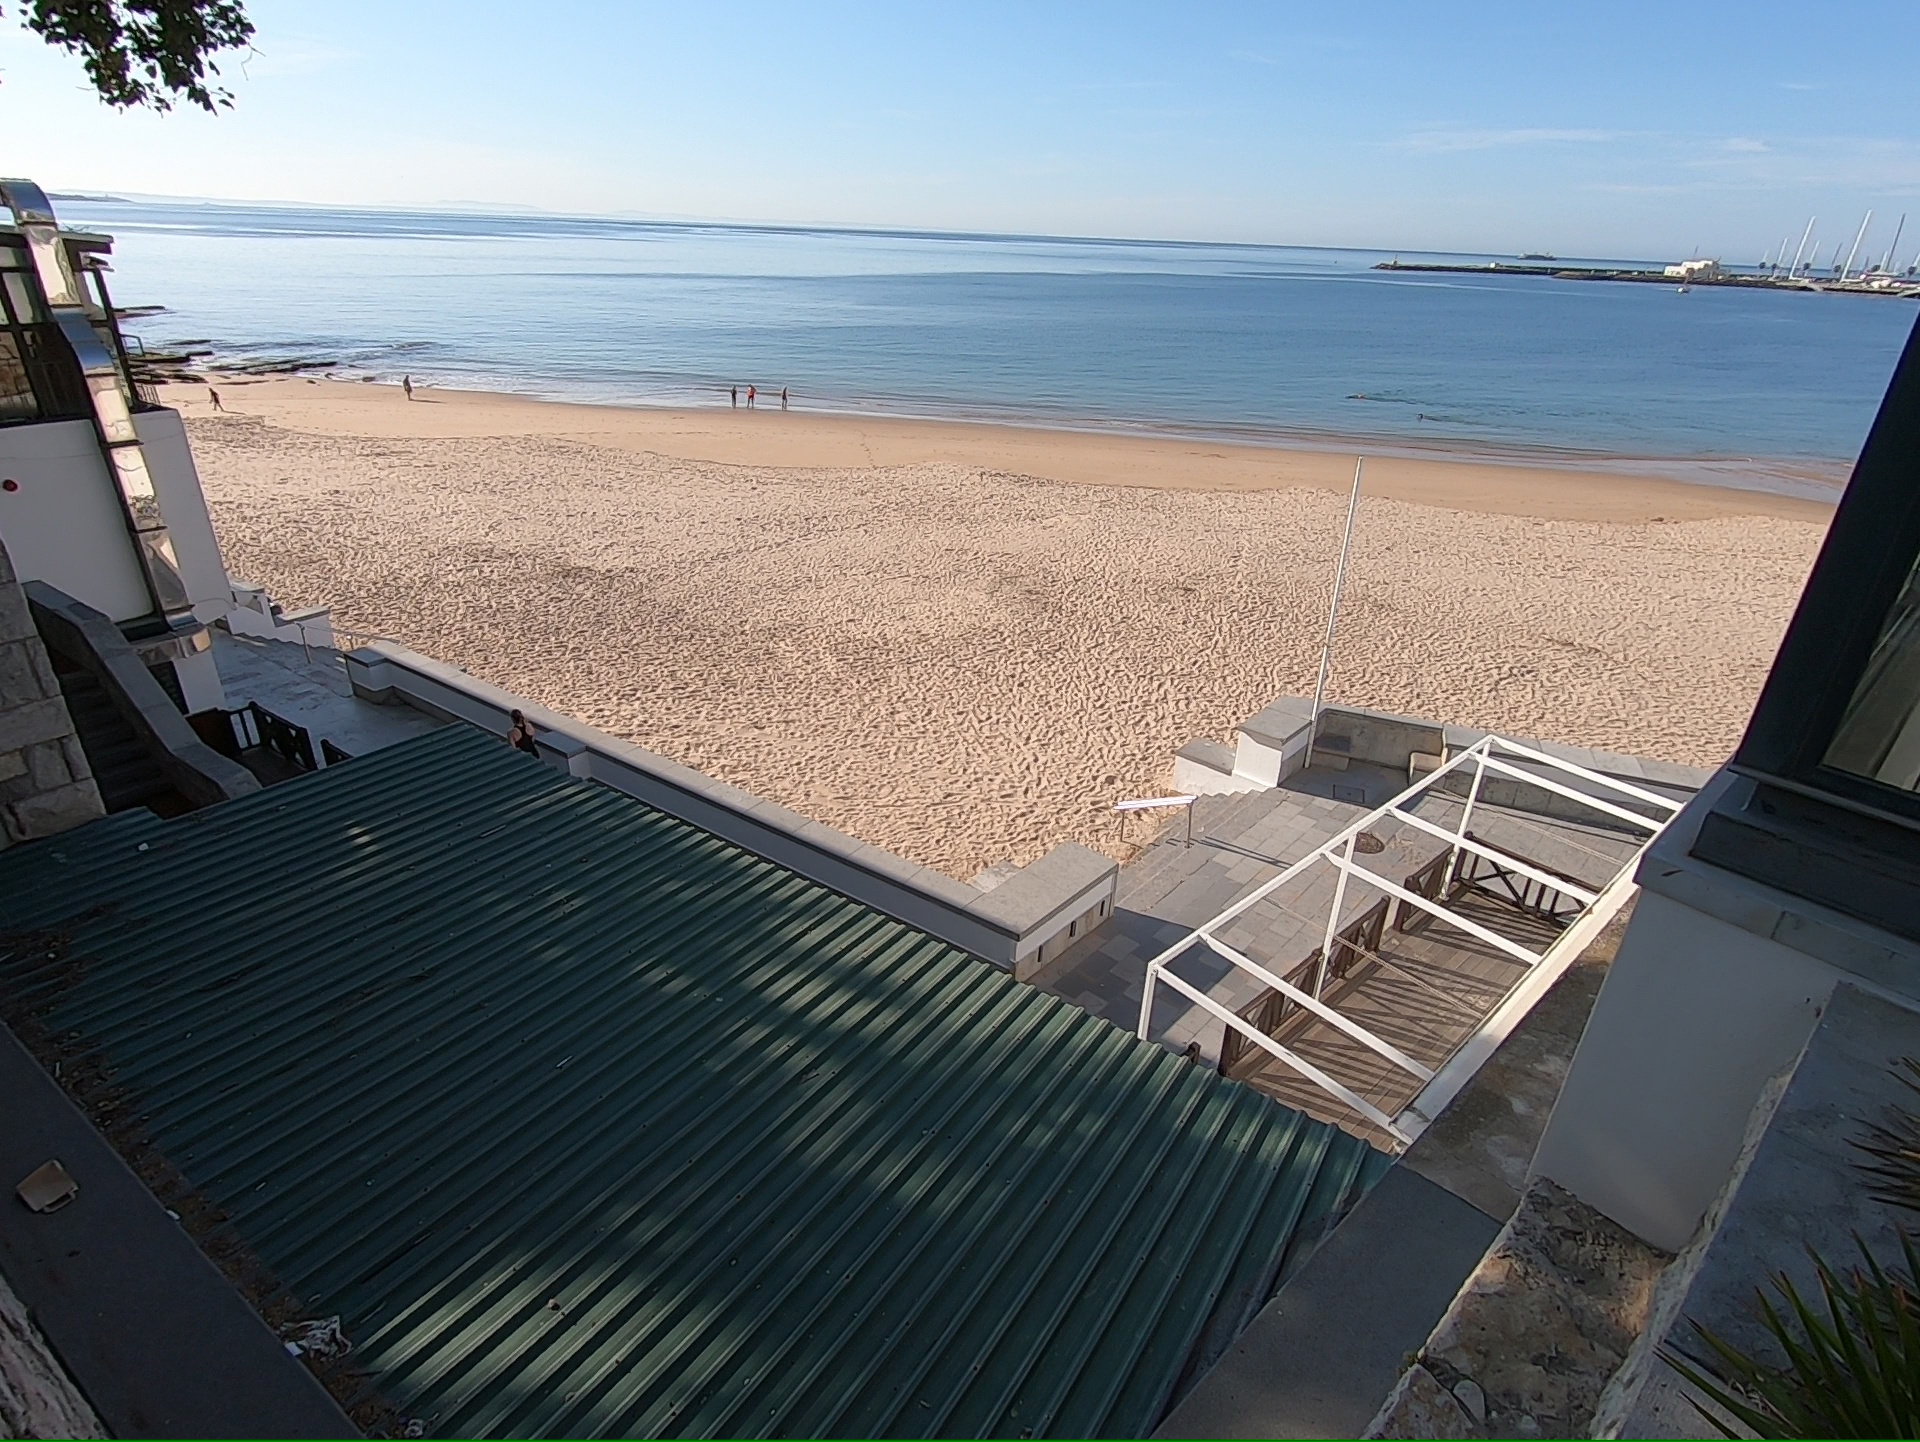person: (504, 709, 538, 744), (207, 386, 225, 413), (744, 383, 758, 407), (402, 372, 413, 401), (779, 385, 789, 411), (729, 385, 739, 408)
